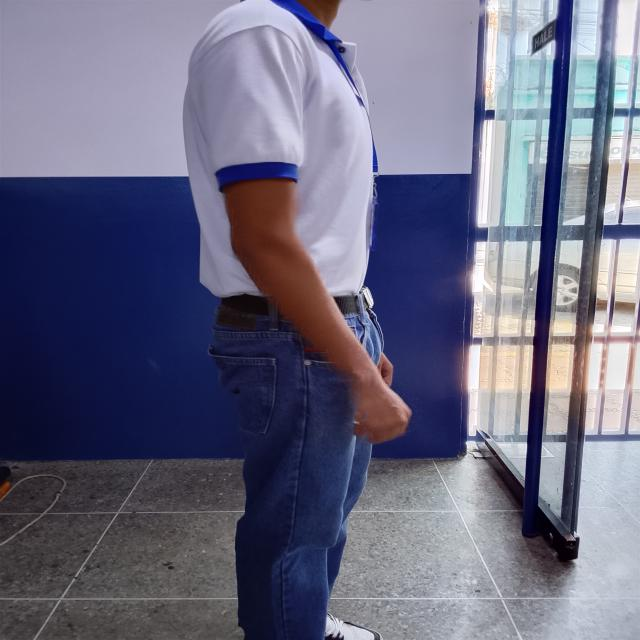uniforme_superior: (182, 0, 376, 298)
